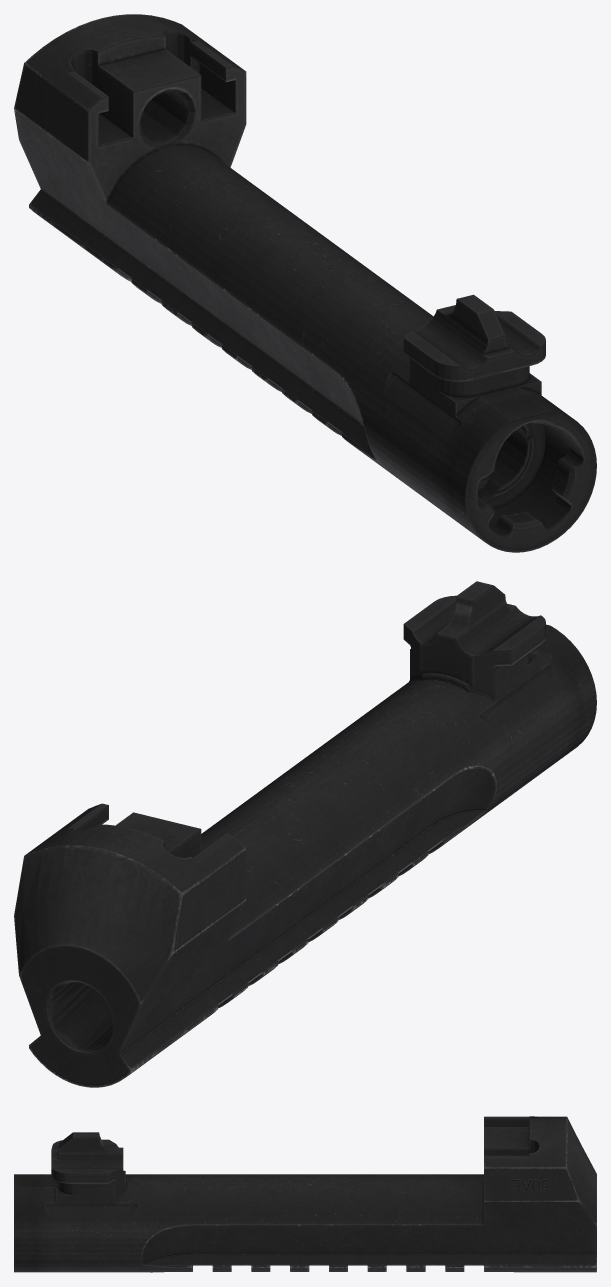
3 renders of one model, top to bottom at view 1: azimuth 30°, elevation 25°; view 2: azimuth 150°, elevation 25°; view 3: azimuth 270°, elevation 25°, orthographic. The views are drawn at different scales.
Visible parts, largest first — view 1: TW_668fe5f62a0f85eea407cc18_PZ_Import; view 2: TW_668fe5f62a0f85eea407cc18_PZ_Import; view 3: TW_668fe5f62a0f85eea407cc18_PZ_Import.
Boxes of the visible parts, bbox=[...] form: TW_668fe5f62a0f85eea407cc18_PZ_Import: bbox=[14, 14, 596, 552]; TW_668fe5f62a0f85eea407cc18_PZ_Import: bbox=[14, 581, 596, 1087]; TW_668fe5f62a0f85eea407cc18_PZ_Import: bbox=[14, 1116, 596, 1272].
Bounding box in the file's own units: 0.0191 × 0.0943 × 0.0253.
1 material, 1 textured.
